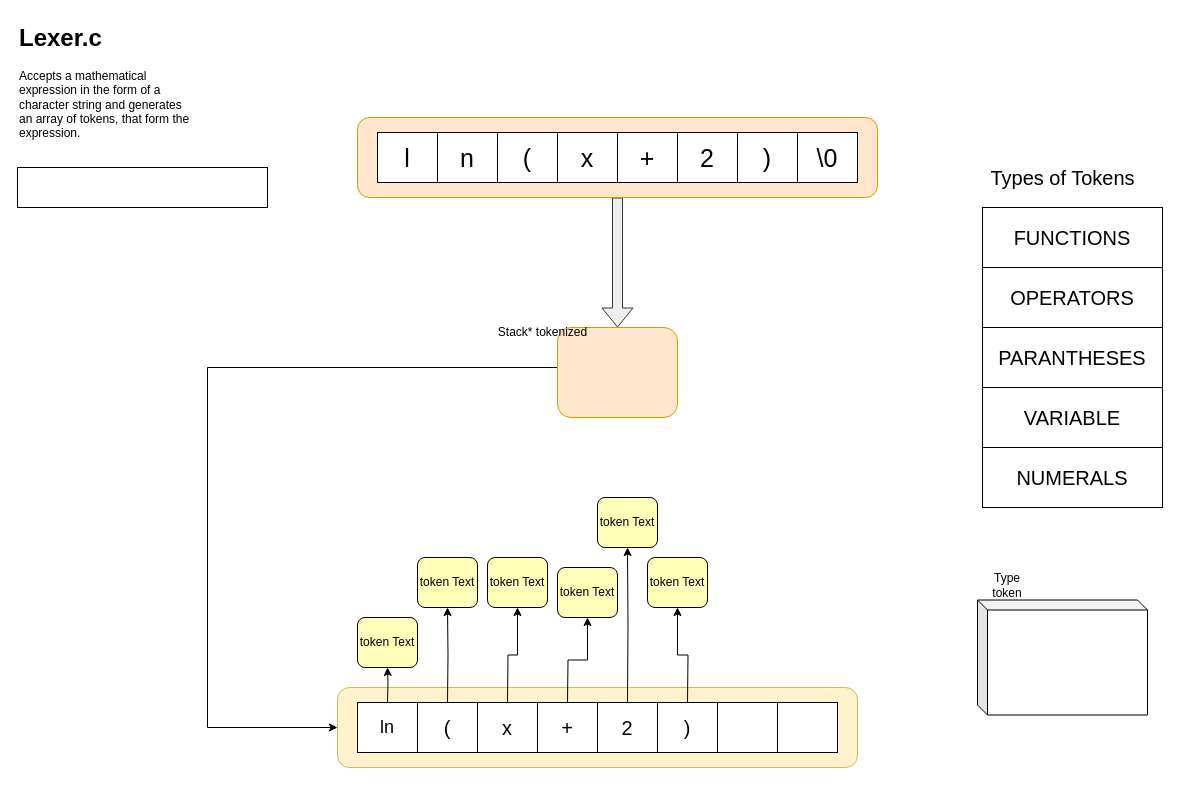
This 1180x785 diagram has some shape labels left out. The centre of each missing label's shape, as x and y in pixels:
char *text; tokenType type;: the point at 1062,657
Stack *lexer(char *string): the point at 142,187
token* stack; int StackSize int top: the point at 617,372
